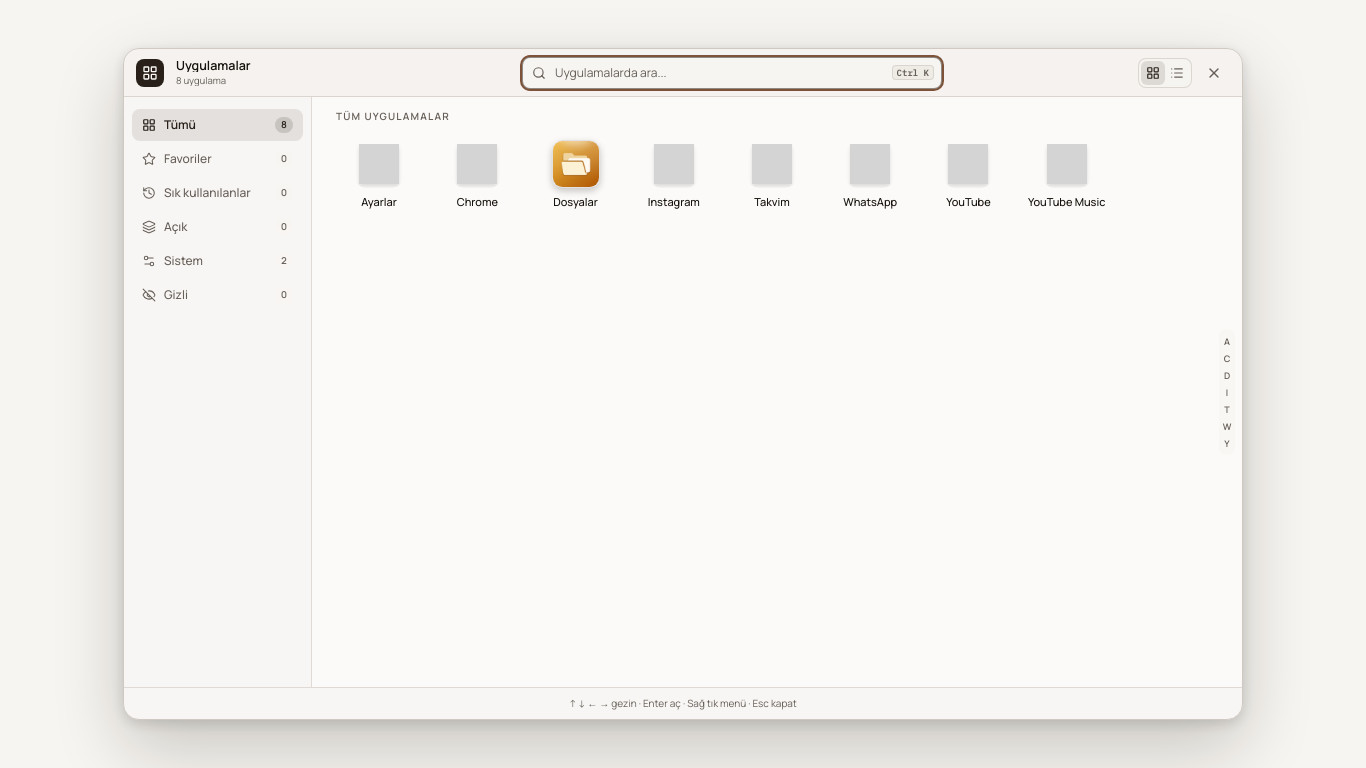
it: arama-öncelikli akış › sonuç sayısı canlı bölgede duyurulur; sonuç yoksa boş durum
Type "you" into the dropdown at (732, 72), box [522, 56, 942, 88]
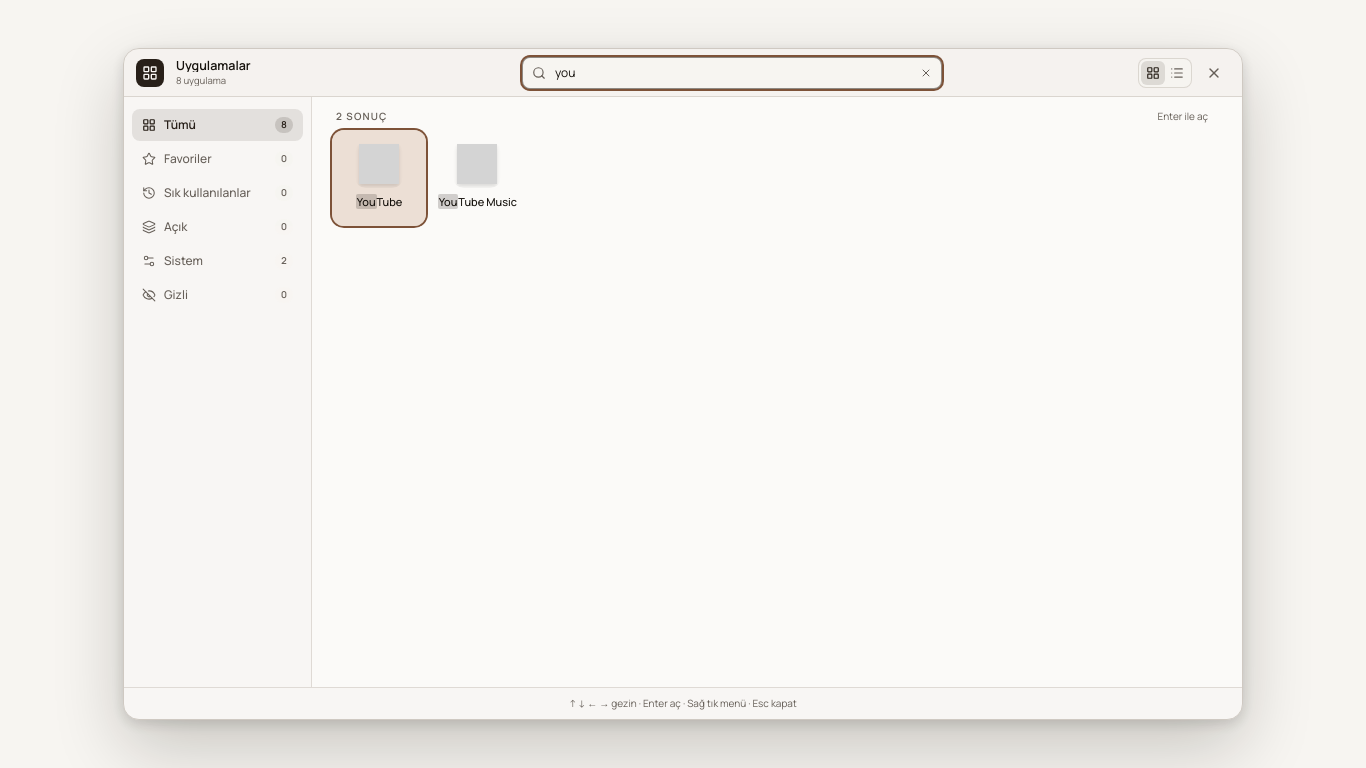
Replace the text in the dropdown with "zzzz" at (732, 72), box [522, 56, 942, 88]
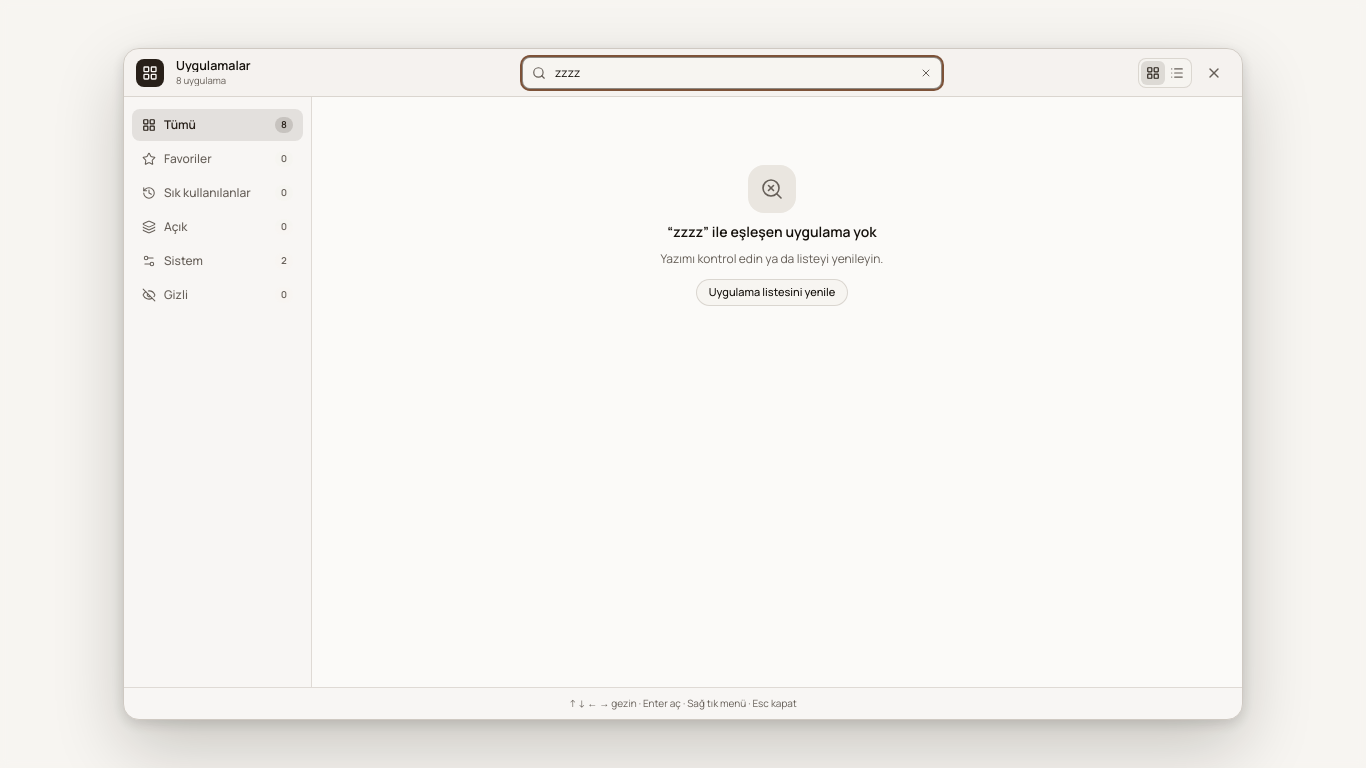
Expected: the text "“zzzz” ile eşleşen uygulama yok" is shown, [667, 221, 877, 242]
Expected: no options are shown
